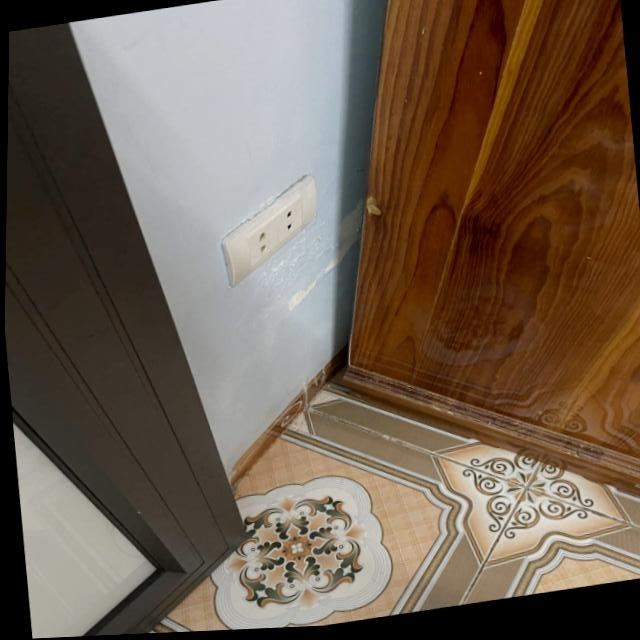outlet: (213, 174, 325, 291)
